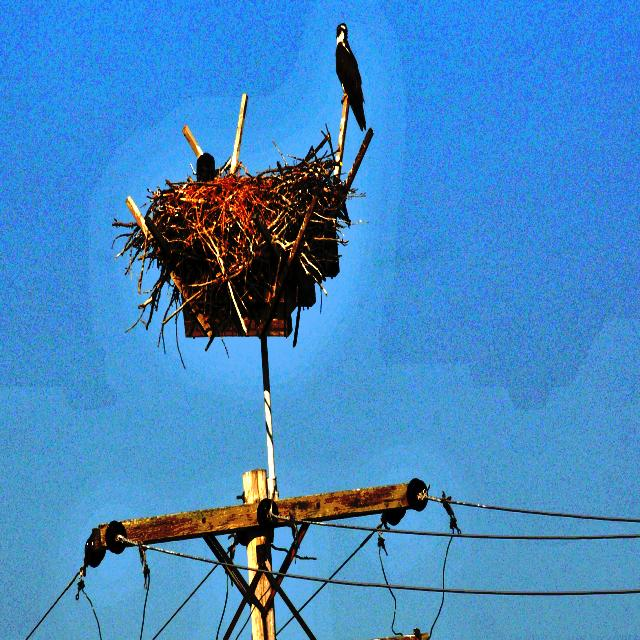obstruction: (115, 132, 371, 341)
wires: (288, 525, 640, 590), (282, 577, 640, 639), (31, 548, 212, 639), (0, 540, 84, 639), (159, 567, 242, 639), (452, 505, 640, 535), (391, 501, 451, 531)
